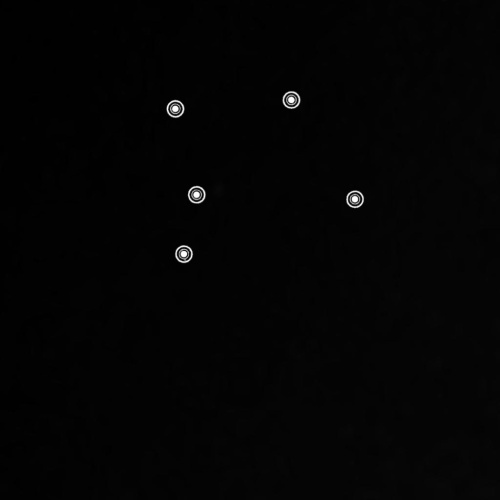libra: (160, 82, 369, 273)
